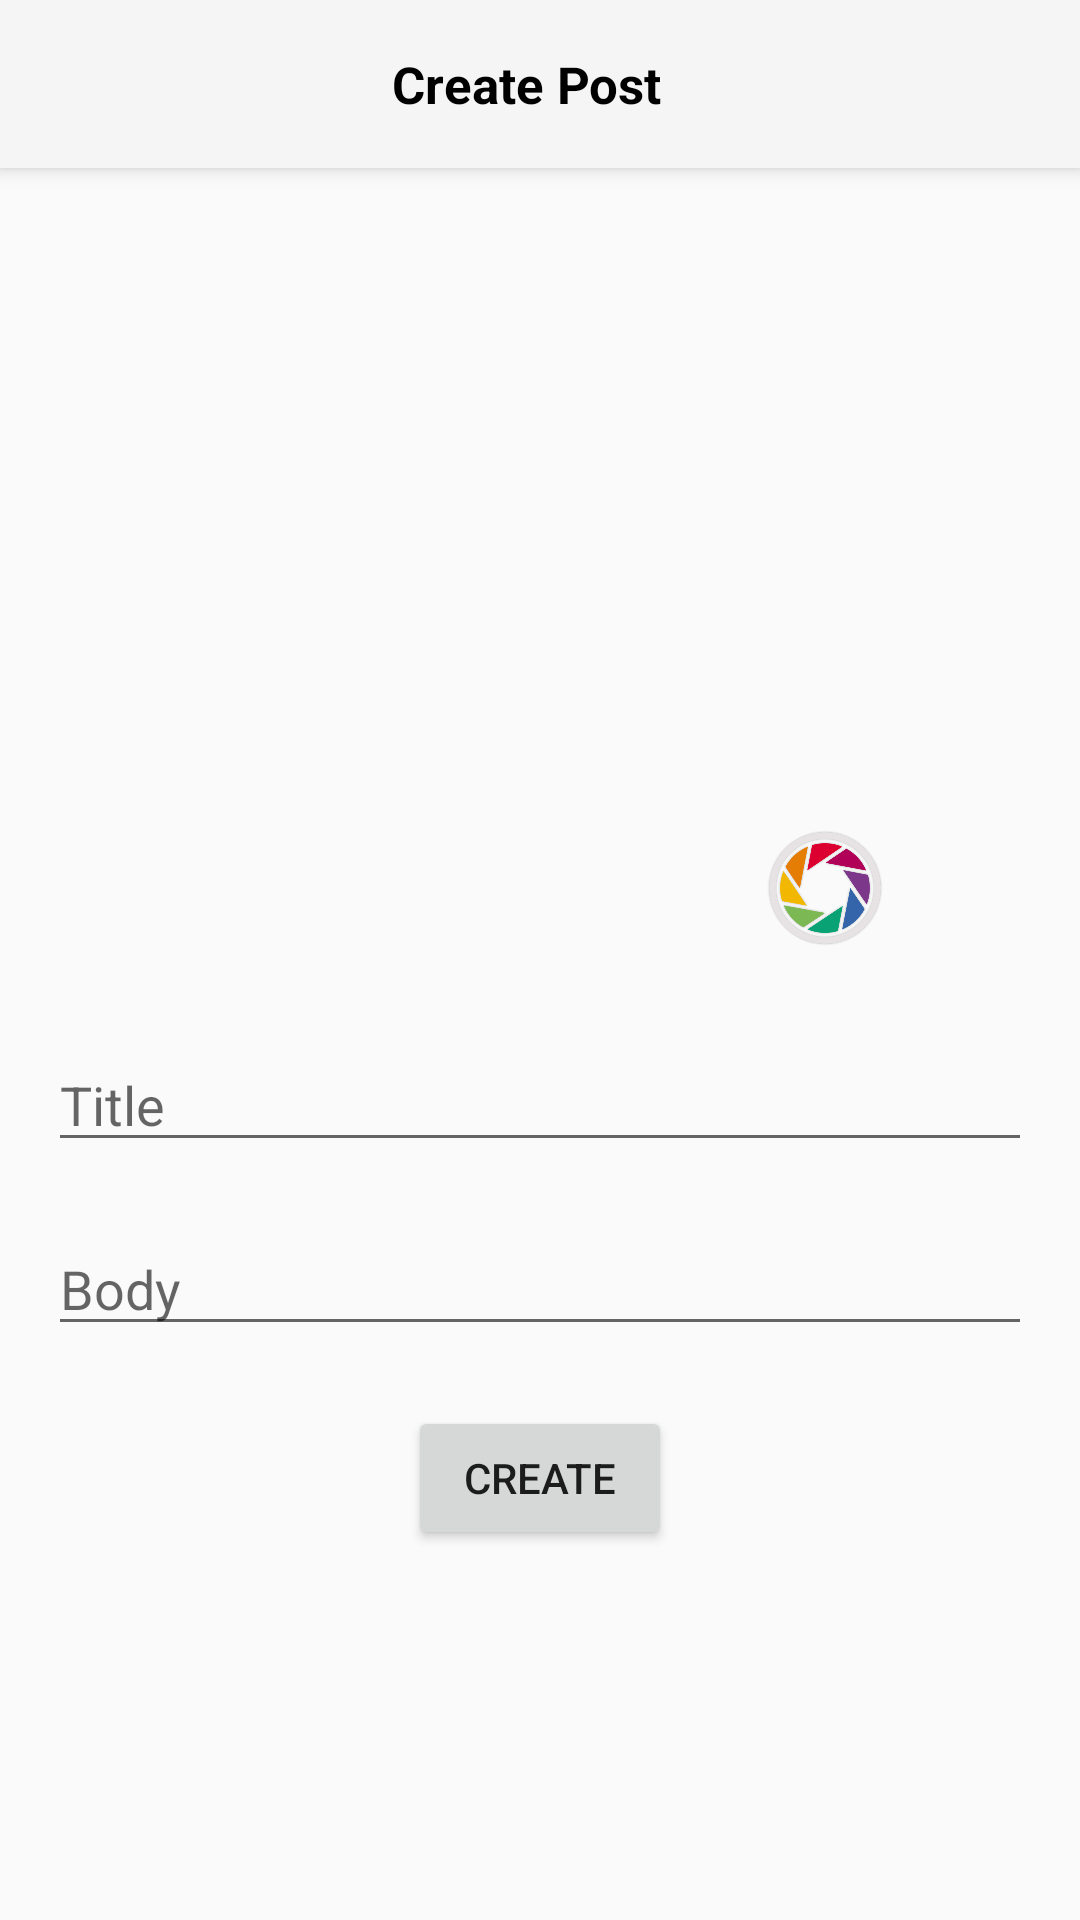

Screen size 1080 x 1920. Icon name, then its box in pixels as detection(x1, y1, x2, y2):
camera: detection(769, 832, 881, 944)
